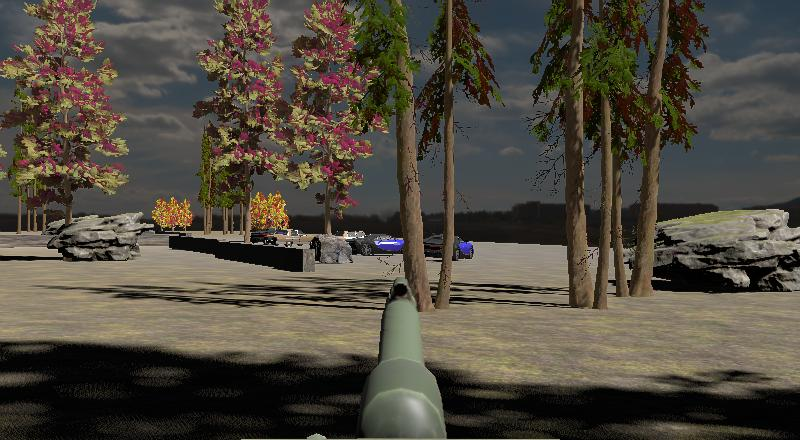car: (421, 231, 476, 261), (249, 226, 310, 247), (358, 232, 408, 257)
